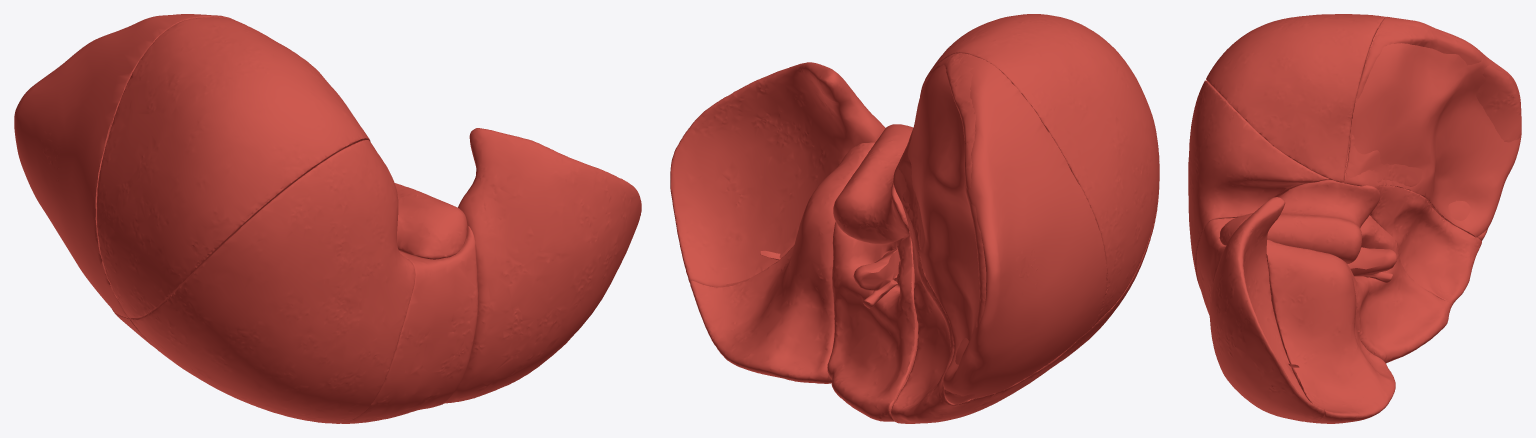
Rendered from liver.glb.
3 views of the same model, side by side, from view 1: azimuth 30°, elevation 25°; view 2: azimuth 150°, elevation 25°; view 3: azimuth 270°, elevation 25° (orthographic). The views are drawn at different scales.
Visible parts, largest first — view 1: grp1, grp1_2, grp1_4, grp1_7, grp1_1, grp1_9; view 2: grp1_7, grp1_4, grp1_2, grp1_6, grp1_1, grp1_5, grp1_9, grp1_3, grp1_8, grp1; view 3: grp1_7, grp1_2, grp1_6, grp1_4, grp1, grp1_1, grp1_5, grp1_9, grp1_3, grp1_8.
Boxes of the visible parts, left/top/right/bottom form: grp1: left=130, top=140, right=414, bottom=423; grp1_2: left=96, top=17, right=370, bottom=318; grp1_4: left=443, top=128, right=641, bottom=403; grp1_7: left=14, top=14, right=229, bottom=318; grp1_1: left=336, top=226, right=478, bottom=423; grp1_9: left=394, top=183, right=467, bottom=259; grp1_7: left=893, top=53, right=1106, bottom=399; grp1_4: left=670, top=62, right=885, bottom=287; grp1_2: left=902, top=14, right=1159, bottom=326; grp1_6: left=690, top=142, right=874, bottom=383; grp1_1: left=827, top=221, right=918, bottom=421; grp1_5: left=891, top=202, right=1090, bottom=423; grp1_9: left=833, top=124, right=913, bottom=244; grp1_3: left=897, top=53, right=1038, bottom=404; grp1_8: left=760, top=249, right=900, bottom=308; grp1: left=1061, top=193, right=1158, bottom=361; grp1_7: left=1343, top=16, right=1521, bottom=237; grp1_2: left=1206, top=14, right=1385, bottom=182; grp1_6: left=1266, top=239, right=1395, bottom=423; grp1_4: left=1209, top=197, right=1324, bottom=421; grp1: left=1188, top=80, right=1330, bottom=288; grp1_1: left=1196, top=215, right=1450, bottom=363; grp1_5: left=1370, top=185, right=1481, bottom=307; grp1_9: left=1219, top=179, right=1380, bottom=264; grp1_3: left=1346, top=24, right=1521, bottom=240; grp1_8: left=1288, top=247, right=1396, bottom=367.
Size of the model in its own units: 209 by 159 by 155.
